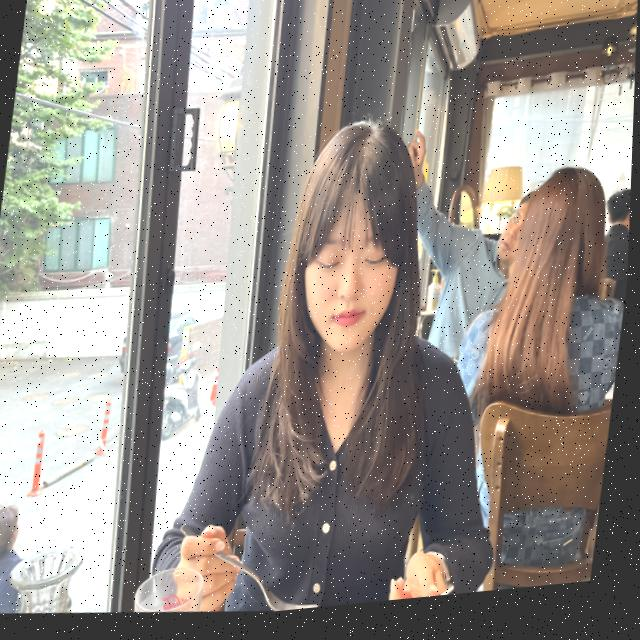eating-person: (146, 70, 558, 627)
